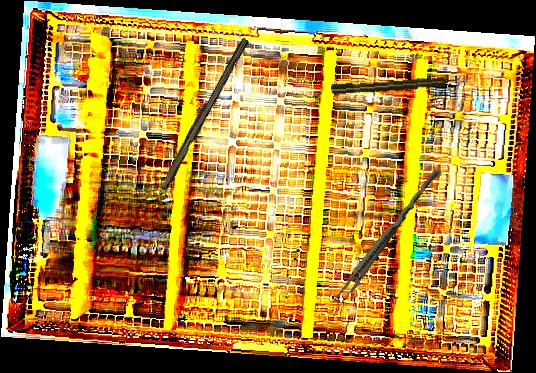Handpiece: (330, 74, 462, 96)
Scalpel Handle: (157, 34, 250, 193)
Tissue Forceps: (330, 163, 444, 310)
